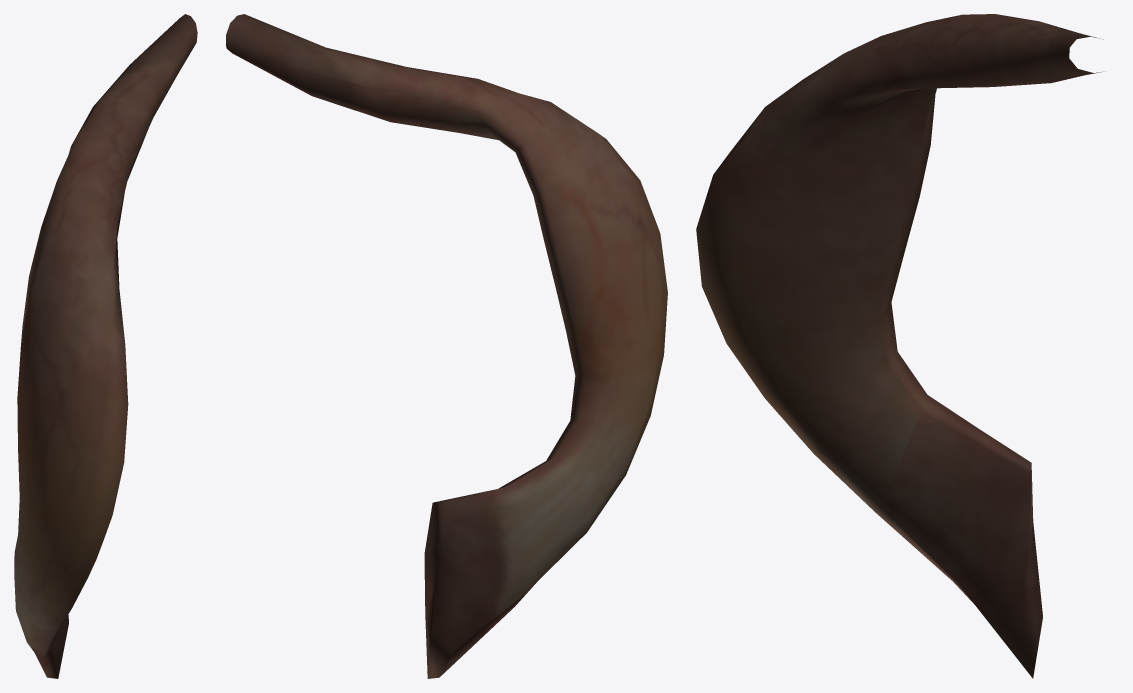
File: Carebellum_Part_A.gltf
The picture shows the model from 3 angles, left to right: view 1: azimuth 30°, elevation 25°; view 2: azimuth 150°, elevation 25°; view 3: azimuth 270°, elevation 25°; orthographic projection. The views are drawn at different scales.
Parts seen in each view (by area): view 1: Carebellum_Part_A; view 2: Carebellum_Part_A; view 3: Carebellum_Part_A.
Boxes of the visible parts, <box> form: Carebellum_Part_A: <box>14,14,197,678</box>; Carebellum_Part_A: <box>226,14,667,678</box>; Carebellum_Part_A: <box>696,14,1103,678</box>.
Bounding box in the file's own units: 1.2 × 2.57 × 1.34.
1 material, 1 textured.
